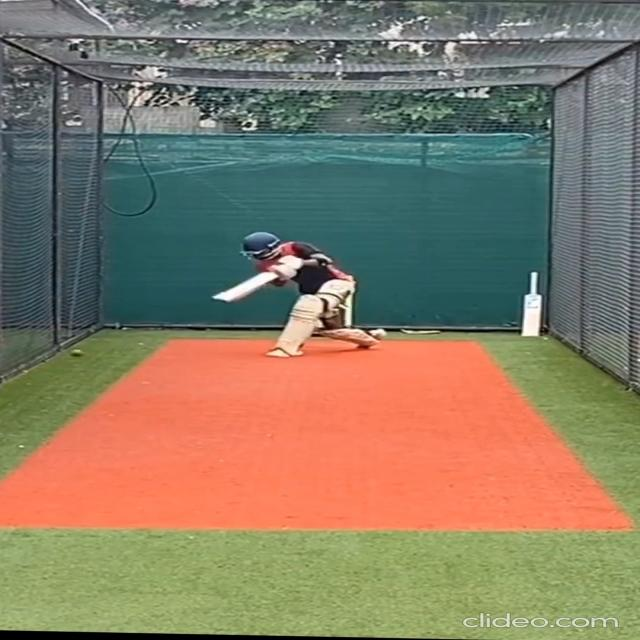ball: (68, 349, 90, 359)
